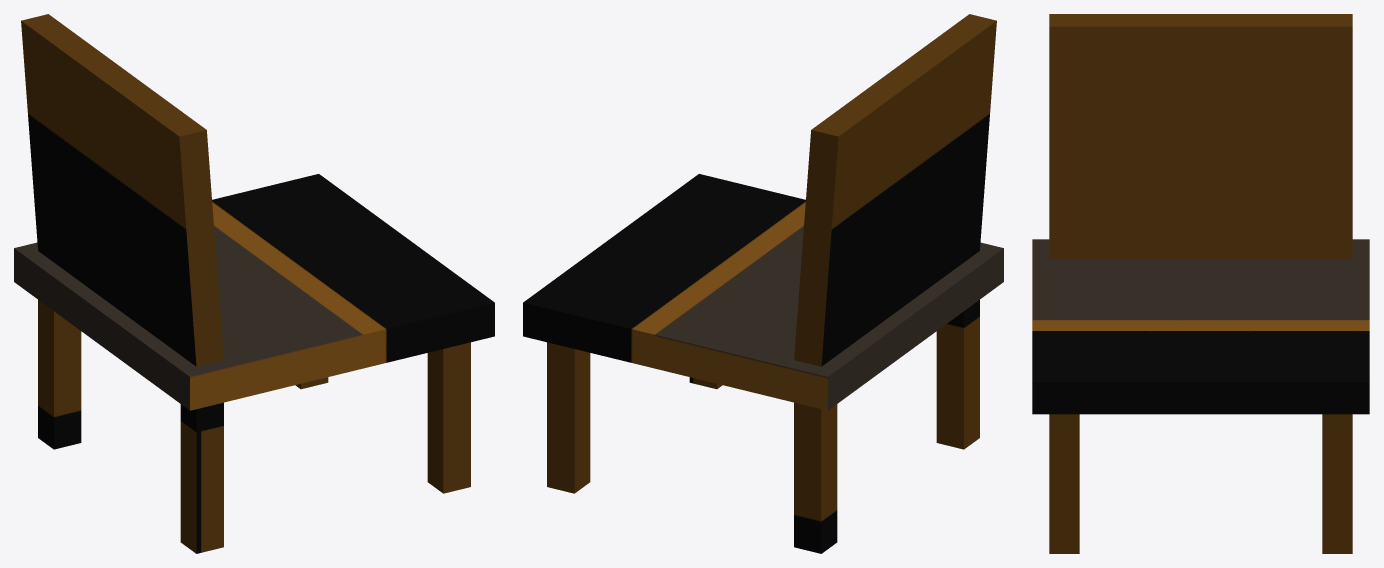
File: LowChair.obj
The picture shows the model from 3 angles, left to right: view 1: azimuth 30°, elevation 25°; view 2: azimuth 150°, elevation 25°; view 3: azimuth 270°, elevation 25°; orthographic projection. The views are drawn at different scales.
Visible parts, largest first — view 1: pCube2; view 2: pCube2; view 3: pCube2.
Boxes of the visible parts, <box> form: pCube2: <box>14,14,494,553</box>; pCube2: <box>523,14,1003,553</box>; pCube2: <box>1032,14,1369,553</box>.
Bounding box in the file's own units: 1.01 × 1.32 × 1.
1 material, 1 textured.
